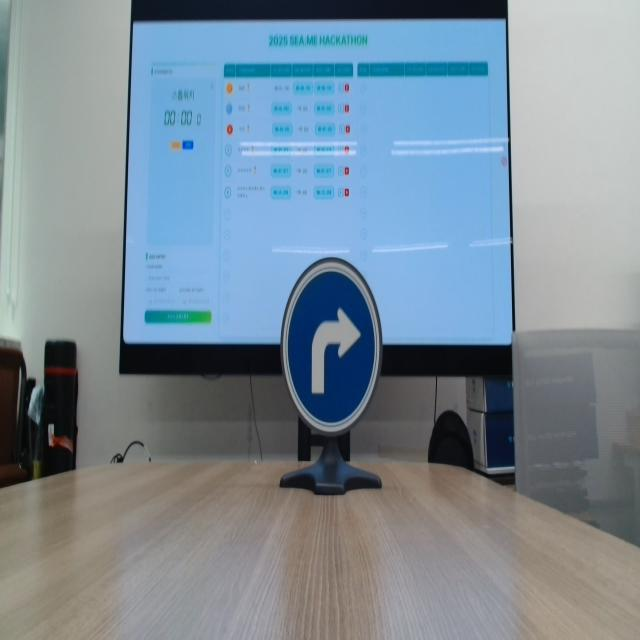right_dierection: (267, 251, 388, 438)
